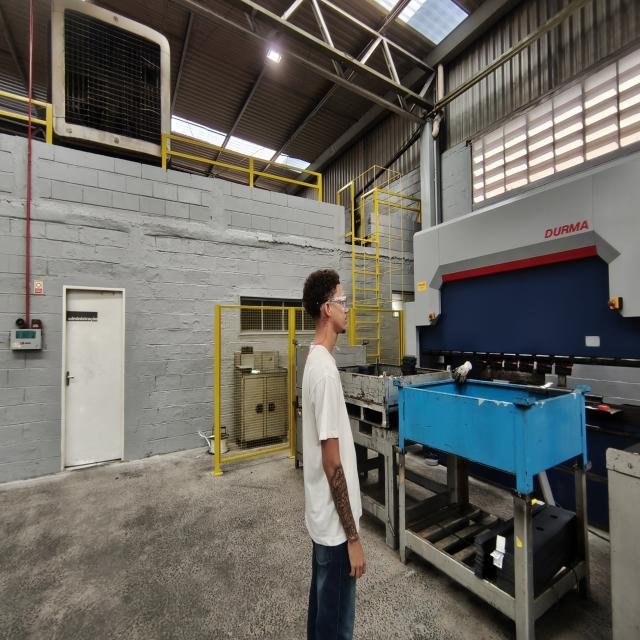oculos-epi: (320, 295, 347, 311)
